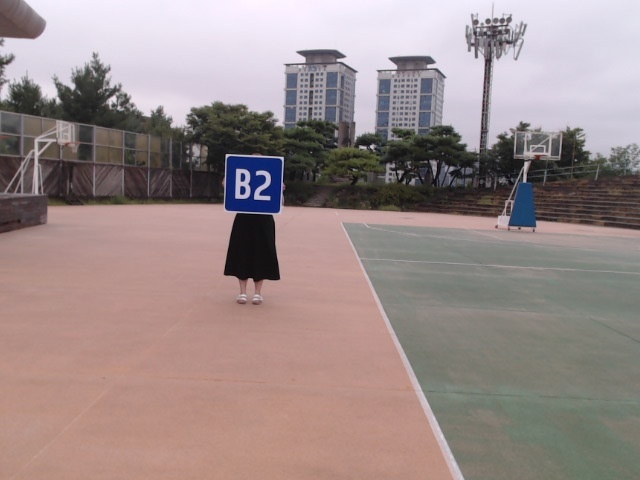delivery_b2: (223, 156, 284, 214)
